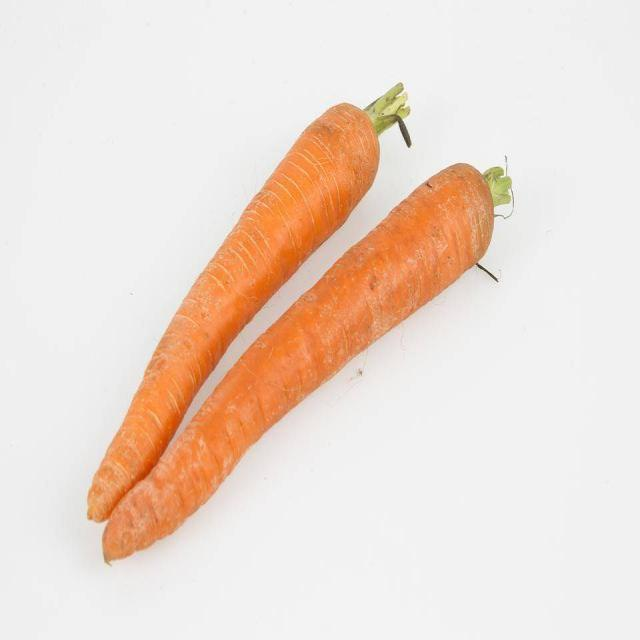Carrot: (99, 163, 519, 561), (85, 85, 411, 517)
